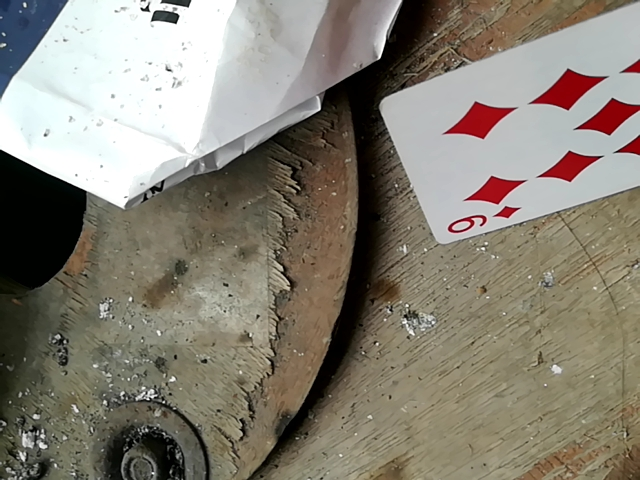fk 9: (372, 1, 640, 244)
